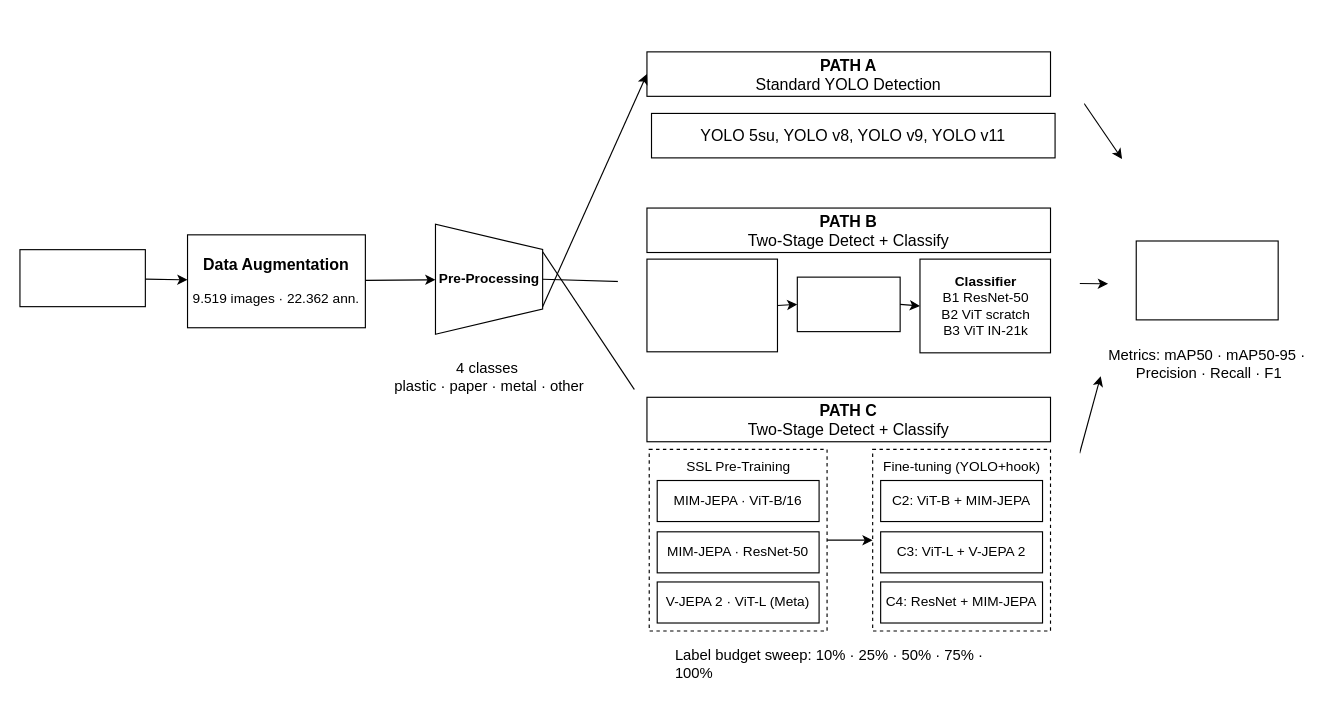
Image size: 1334x702. Some labels were removed from this diagram. The shapes that lost their labels are listed below. From the top down, each one's centre as x and y in pixels, then its label:
At point 82,278: "TACO Dataset 1.500 images".
At point 1206,280: "Evaluation".
At point 711,305: "Detector YOLOv8m FROZEN".
At point 848,304: "Bounding Boxes".
